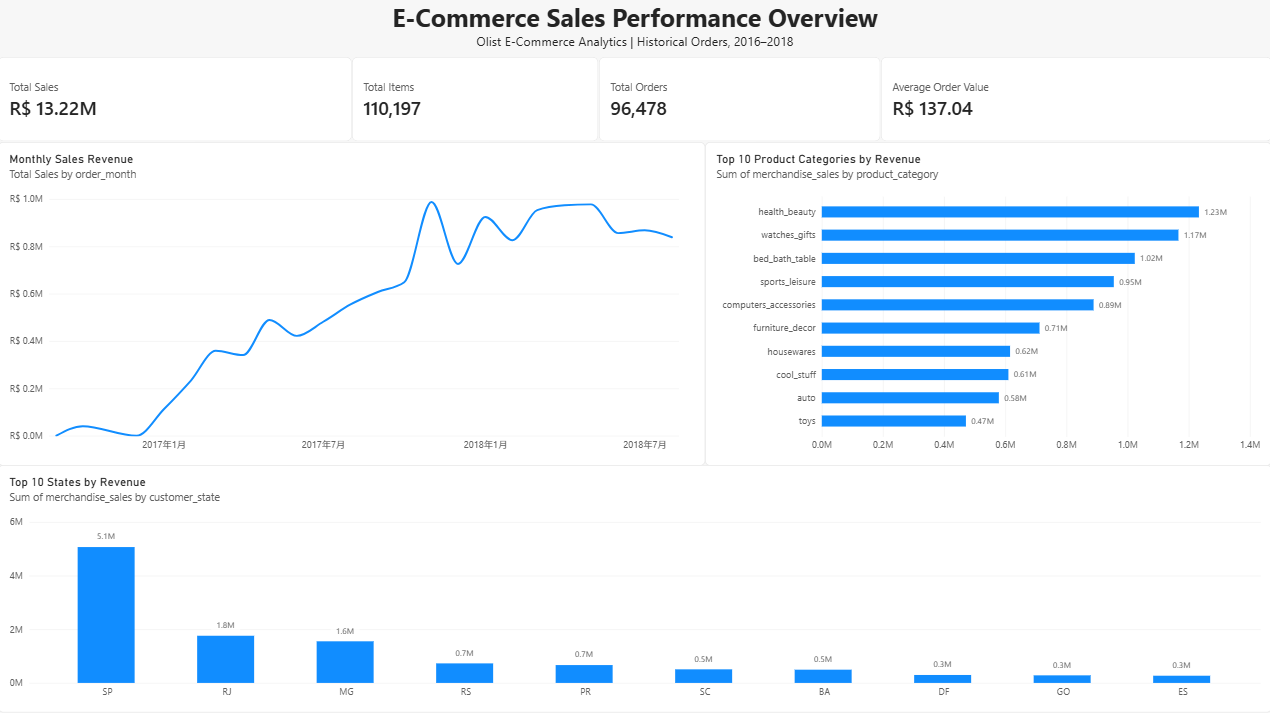

The dashboard page shown, as its layout file describes it:
{"tool":"powerbi","page":{"name":"Sales Overview","canvas":[1920,1080],"ordinal":0},"visuals":[{"type":"cardVisual","fields":{"Data":["OrderPerformance.Total Sales"]},"box":[0,90.4,533.7,127.9],"z":0},{"type":"cardVisual","fields":{"Data":["OrderPerformance.Average Order Value"]},"box":[1330,90.4,590,127.9],"z":1},{"type":"cardVisual","fields":{"Data":["OrderPerformance.Total Items"]},"box":[533.7,90.4,371.7,127.9],"z":2},{"type":"cardVisual","fields":{"Data":["OrderPerformance.Total Orders"]},"box":[905.4,90.4,424.6,127.9],"z":3},{"type":"lineChart","title":"Monthly Sales Revenue","fields":{"Category":["OrderPerformance.order_month"],"Y":["OrderPerformance.Total Sales"]},"box":[0,218.3,1065.7,487.7],"z":4},{"type":"clusteredBarChart","title":"Top 10 Product Categories by Revenue","fields":{"Category":["CategorySales.product_category"],"Y":["Sum(CategorySales.merchandise_sales)"]},"box":[1065.7,218.3,854.3,487.7],"z":5},{"type":"lineClusteredColumnComboChart","title":"Top 10 States by Revenue","fields":{"Category":["CategorySales.customer_state"],"Y":["Sum(CategorySales.merchandise_sales)"]},"box":[0,705.9,1920,373.4],"z":6},{"type":"textbox","box":[0,5.1,1920,85.3],"z":7}]}

Visuals, with their boxes in screenshot pixels (x1, y1, x2, y2), scaled from the page's 1920x1080 canvas onto the 1270x713 screenshot:
cardVisual - OrderPerformance.Total Sales: bbox=(0, 60, 353, 144)
cardVisual - OrderPerformance.Average Order Value: bbox=(880, 60, 1269, 144)
cardVisual - OrderPerformance.Total Items: bbox=(353, 60, 599, 144)
cardVisual - OrderPerformance.Total Orders: bbox=(599, 60, 880, 144)
"Monthly Sales Revenue" lineChart: bbox=(0, 144, 705, 466)
"Top 10 Product Categories by Revenue" clusteredBarChart: bbox=(705, 144, 1269, 466)
"Top 10 States by Revenue" lineClusteredColumnComboChart: bbox=(0, 466, 1269, 712)
textbox: bbox=(0, 3, 1269, 60)
